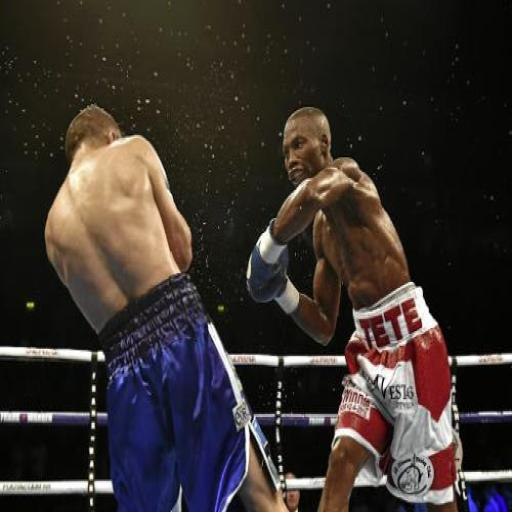boxing: (43, 101, 291, 510), (245, 104, 467, 510)
